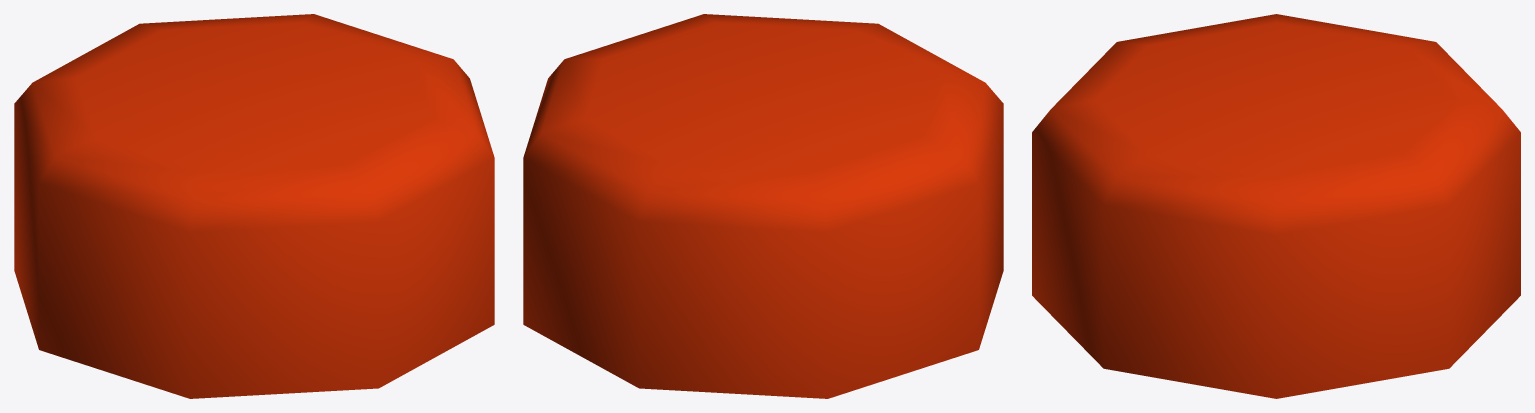
The model's file is Button.glb.
The picture shows the model from 3 angles, left to right: view 1: azimuth 30°, elevation 25°; view 2: azimuth 150°, elevation 25°; view 3: azimuth 270°, elevation 25°; orthographic projection.
Parts seen in each view (by area): view 1: Button.col; view 2: Button.col; view 3: Button.col.
Boxes of the visible parts, box(x1,y1,x2,y2) form: Button.col: box(14, 14, 494, 398); Button.col: box(523, 14, 1003, 398); Button.col: box(1032, 14, 1520, 398).
Bounding box in the file's own units: 0.254 × 0.1122 × 0.254.
